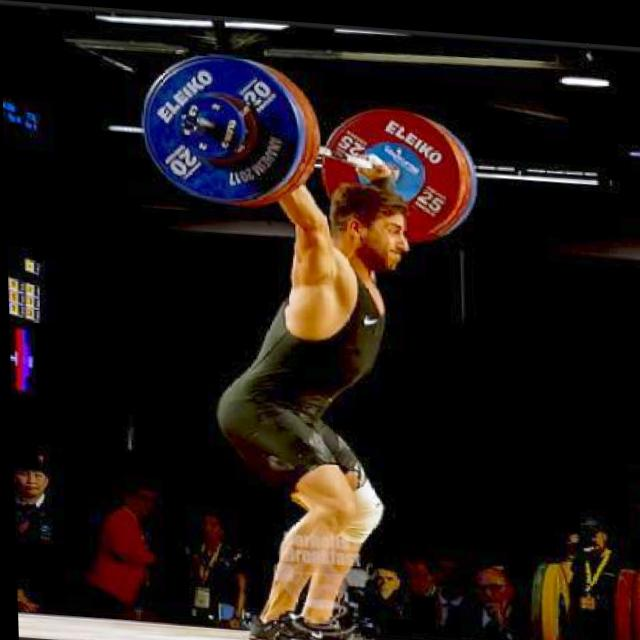barbell: (136, 43, 307, 211)
